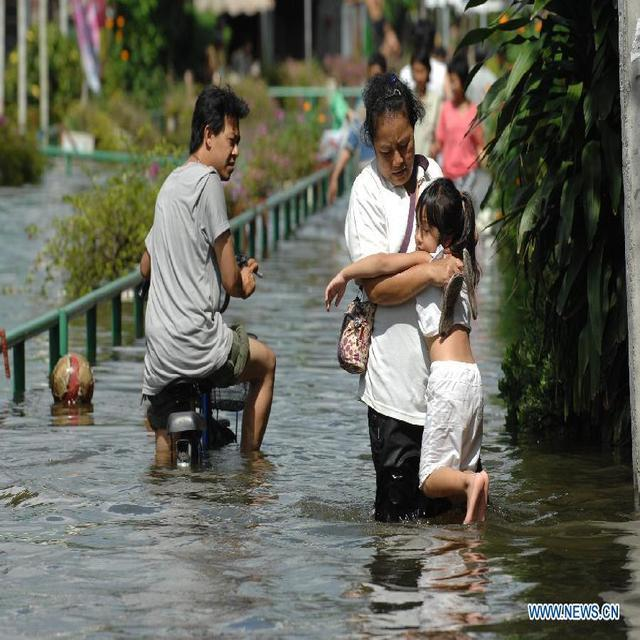Person-RiskLevel2: (332, 66, 516, 536), (129, 64, 298, 481)
